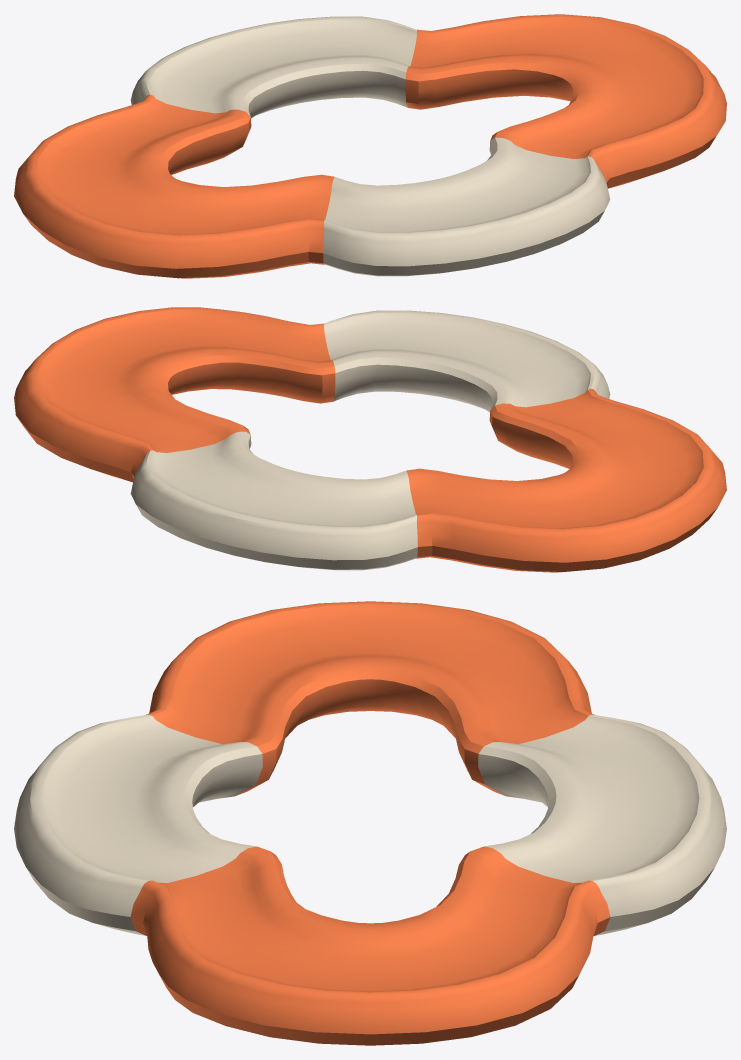
Rendered from toyroomrunway.fbx.
3 views of the same model, one above another, from view 1: azimuth 30°, elevation 25°; view 2: azimuth 150°, elevation 25°; view 3: azimuth 270°, elevation 25° (orthographic). The views are drawn at different scales.
Visible parts, largest first — view 1: Cube, Cube.001; view 2: Cube, Cube.001; view 3: Cube, Cube.001.
Boxes of the visible parts, <box> form: Cube: <box>14,14,726,278</box>; Cube.001: <box>130,16,610,276</box>; Cube: <box>14,307,726,572</box>; Cube.001: <box>130,310,610,570</box>; Cube: <box>130,601,610,1045</box>; Cube.001: <box>14,714,726,935</box>.
Bounding box in the file's own units: 300 × 22.4 × 220.
